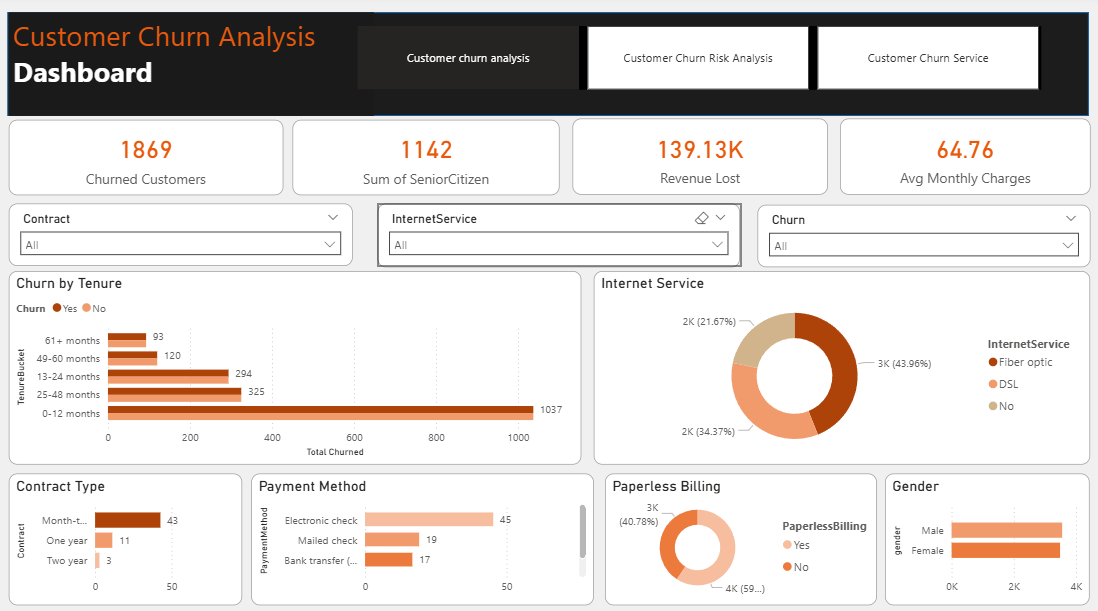

This screenshot's page, from the dashboard's own definition file:
{"tool":"powerbi","page":{"name":"Customer churn analysis","canvas":[1280,720],"ordinal":0},"visuals":[{"type":"shape","box":[8.7,18.9,1259.9,120.9],"z":0},{"type":"textbox","box":[10.2,18.9,425.3,120.9],"z":1000},{"type":"pageNavigator","box":[416.6,35,796.7,74.3],"z":2000},{"type":"card","title":"    Churn Count","fields":{"Values":["customers_cleaned_final.Churned Customers"]},"box":[9.6,144.1,319.7,87.8],"z":3000},{"type":"card","fields":{"Values":["customers_cleaned_final.Revenue Lost"]},"box":[666.9,142.7,297.8,89.2],"z":4000},{"type":"card","fields":{"Values":["customers_cleaned_final.Avg Monthly Charges"]},"box":[978.4,142.7,292.3,89.2],"z":5000},{"type":"card","fields":{"Values":["Sum(customers_cleaned_final.SeniorCitizen)"]},"box":[340.3,144.1,311.5,87.8],"z":6000},{"type":"slicer","fields":{"Values":["customers_cleaned_final.Contract"]},"box":[9.6,241.5,400.7,72.7],"z":7000},{"type":"slicer","fields":{"Values":["customers_cleaned_final.Churn"]},"box":[882.3,242.9,388.3,72.7],"z":8000},{"type":"slicer","fields":{"Values":["customers_cleaned_final.InternetService"]},"box":[440.5,241.5,422.6,74.1],"z":9000},{"type":"clusteredBarChart","title":"Churn by Tenure","fields":{"Category":["customers_cleaned_final.TenureBucket"],"Y":["customers_cleaned_final.Total Churned"],"Series":["customers_cleaned_final.Churn"]},"box":[10.2,320.4,667.1,225.8],"z":10000},{"type":"donutChart","title":" Internet Service","fields":{"Category":["customers_cleaned_final.InternetService"],"Y":["customers_cleaned_final.Total Customers"]},"box":[691.9,320.4,578.2,225.8],"z":11000},{"type":"clusteredBarChart","title":"Contract Type","fields":{"Category":["customers_cleaned_final.Contract"],"Y":["customers_cleaned_final.Churn Rate %"]},"box":[9.6,557.1,271.7,153.7],"z":12000},{"type":"donutChart","title":" Paperless Billing","fields":{"Category":["customers_cleaned_final.PaperlessBilling"],"Y":["customers_cleaned_final.Total Customers"]},"box":[705.3,557.1,317,153.7],"z":13000},{"type":"clusteredBarChart","title":"Payment Method ","fields":{"Category":["customers_cleaned_final.PaymentMethod"],"Y":["customers_cleaned_final.Churn Rate %"]},"box":[292.3,557.1,399.3,153.7],"z":14000},{"type":"clusteredBarChart","title":"Gender","fields":{"Category":["customers_cleaned_final.gender"],"Y":["customers_cleaned_final.Total Customers"]},"box":[1031.9,557.1,238.8,153.7],"z":15000}]}

Visuals, with their boxes in screenshot pixels (x1, y1, x2, y2), scaled from the page's 1280x720 canvas onto the 1098x611 screenshot:
shape: (x1=7, y1=16, x2=1088, y2=119)
textbox: (x1=9, y1=16, x2=374, y2=119)
pageNavigator: (x1=357, y1=30, x2=1041, y2=93)
"    Churn Count" card: (x1=8, y1=122, x2=282, y2=197)
card - customers_cleaned_final.Revenue Lost: (x1=572, y1=121, x2=828, y2=197)
card - customers_cleaned_final.Avg Monthly Charges: (x1=839, y1=121, x2=1090, y2=197)
card - Sum(customers_cleaned_final.SeniorCitizen): (x1=292, y1=122, x2=559, y2=197)
slicer - customers_cleaned_final.Contract: (x1=8, y1=205, x2=352, y2=267)
slicer - customers_cleaned_final.Churn: (x1=757, y1=206, x2=1090, y2=268)
slicer - customers_cleaned_final.InternetService: (x1=378, y1=205, x2=740, y2=268)
"Churn by Tenure" clusteredBarChart: (x1=9, y1=272, x2=581, y2=464)
" Internet Service" donutChart: (x1=594, y1=272, x2=1090, y2=464)
"Contract Type" clusteredBarChart: (x1=8, y1=473, x2=241, y2=603)
" Paperless Billing" donutChart: (x1=605, y1=473, x2=877, y2=603)
"Payment Method " clusteredBarChart: (x1=251, y1=473, x2=593, y2=603)
"Gender" clusteredBarChart: (x1=885, y1=473, x2=1090, y2=603)
